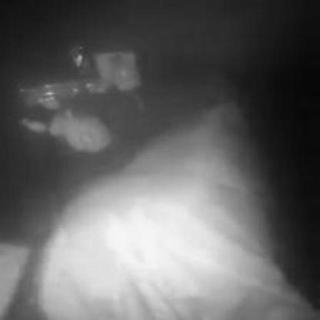other: (34, 131, 297, 313)
